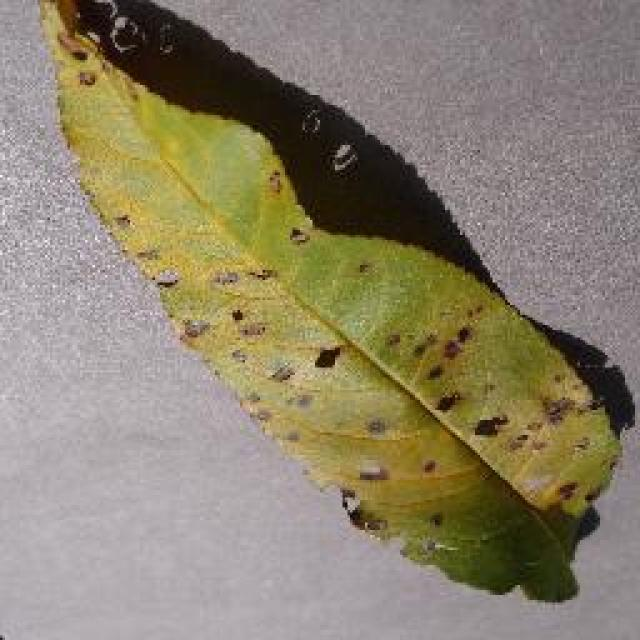Peach_Bacterial_Spot: (90, 51, 640, 592)
